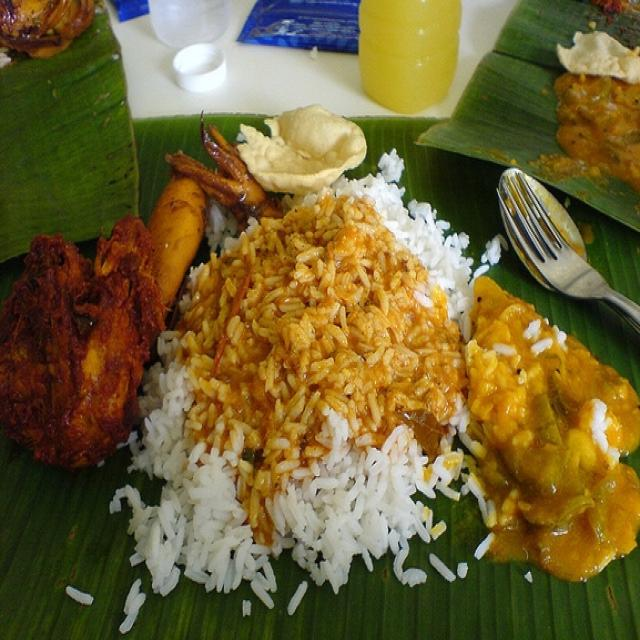米饭主食: (20, 47, 631, 624)
